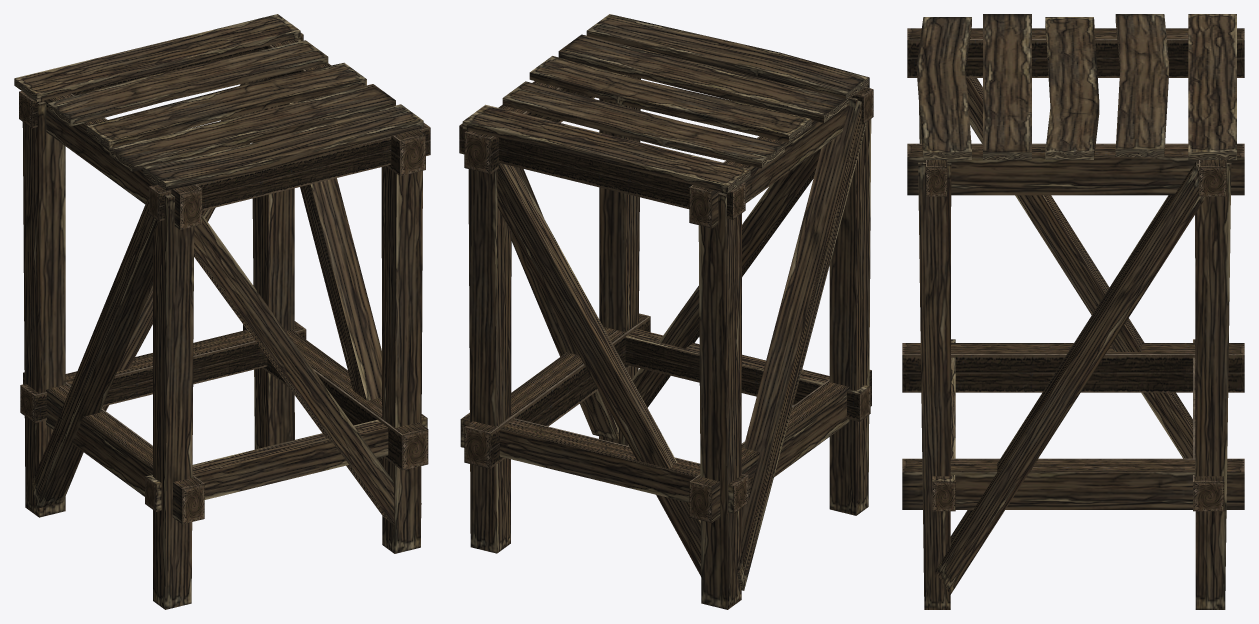
File: Wood_4X6X4_01.fbx
3 views of the same model, side by side, from view 1: azimuth 30°, elevation 25°; view 2: azimuth 150°, elevation 25°; view 3: azimuth 270°, elevation 25° (orthographic). The views are drawn at different scales.
Parts seen in each view (by area): view 1: Wood_4X6X4_01; view 2: Wood_4X6X4_01; view 3: Wood_4X6X4_01.
Part boxes in pixels (x1,y1,x2,y2): Wood_4X6X4_01: [14, 14, 430, 609]; Wood_4X6X4_01: [459, 14, 873, 609]; Wood_4X6X4_01: [902, 14, 1244, 609].
Bounding box in the file's own units: 4 × 6 × 4.06.
